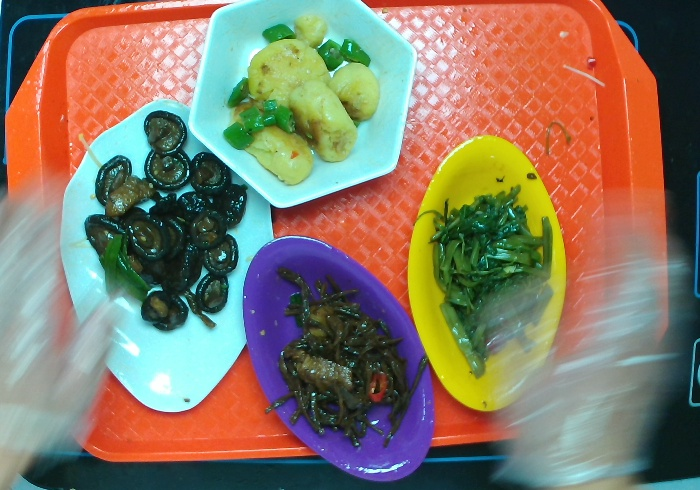RJxy-Bai_Ye_Pan: (46, 90, 277, 418)
RJxy-Fen_Hong_Tuo_Yuan: (235, 228, 441, 481)
RJxy-Huang_Se_Tuo_Yuan: (398, 129, 572, 422)
RJxy-Liu_Jiao_Wan: (183, 1, 421, 215)
